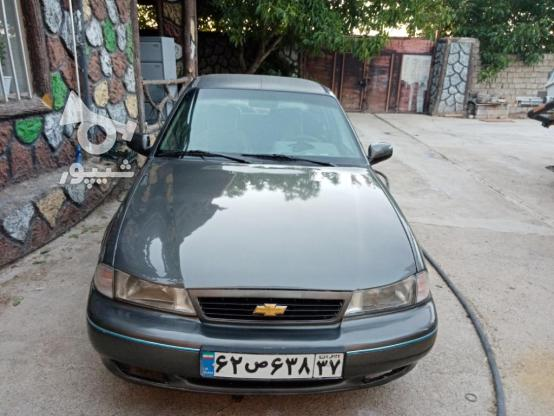car: (200, 351, 344, 380)
